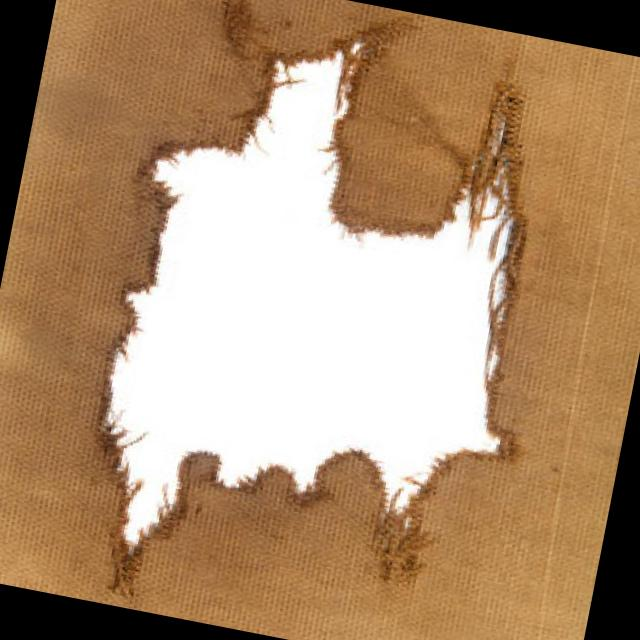hole: (50, 0, 595, 640)
